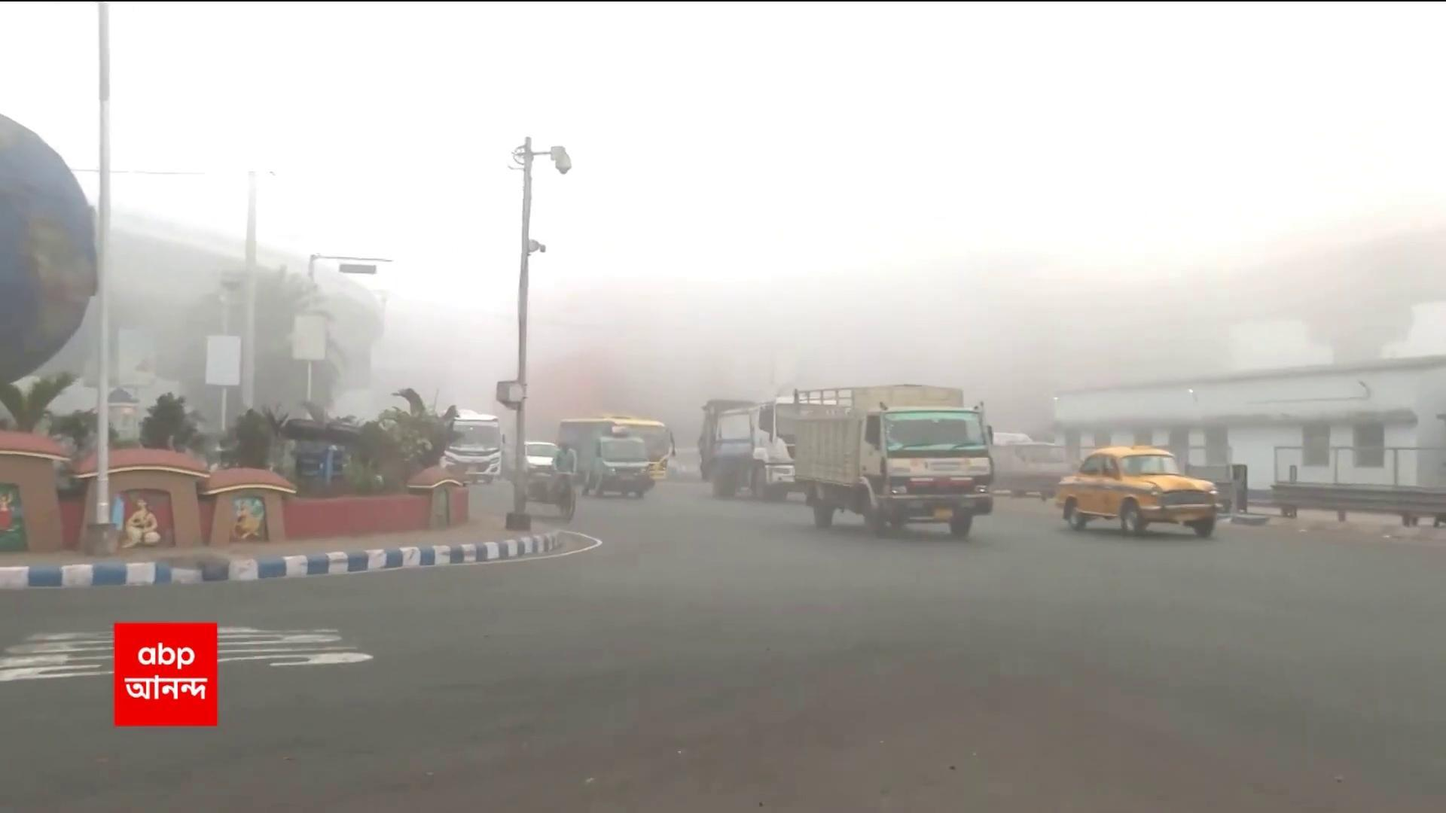Car: (1056, 443, 1219, 537)
Truck: (792, 382, 995, 538), (708, 400, 823, 504), (588, 425, 650, 498)
